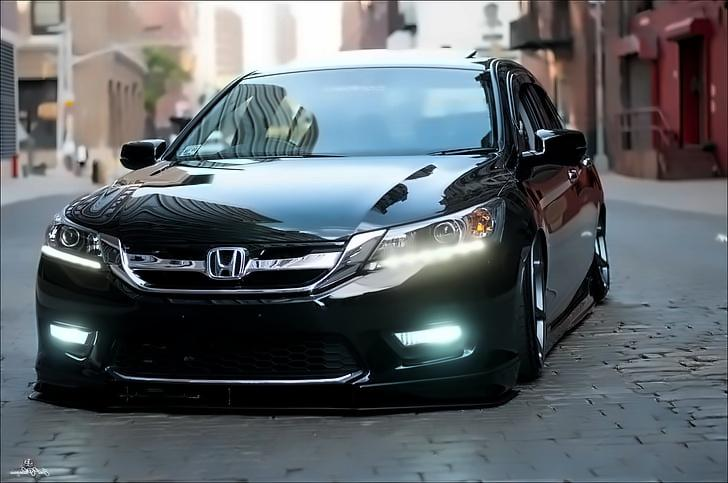Car hood: (65, 159, 513, 245)
Front bumper: (30, 250, 533, 412)
Headlight - -L-: (356, 192, 507, 280)
Headlight - -R-: (38, 205, 122, 276)
Passenger-s door - -F-L-: (495, 57, 589, 355)
Side bumper - -L-: (534, 261, 612, 377)
Side mirror - -L-: (516, 125, 589, 187)
Side mirror - -R-: (116, 137, 172, 172)
